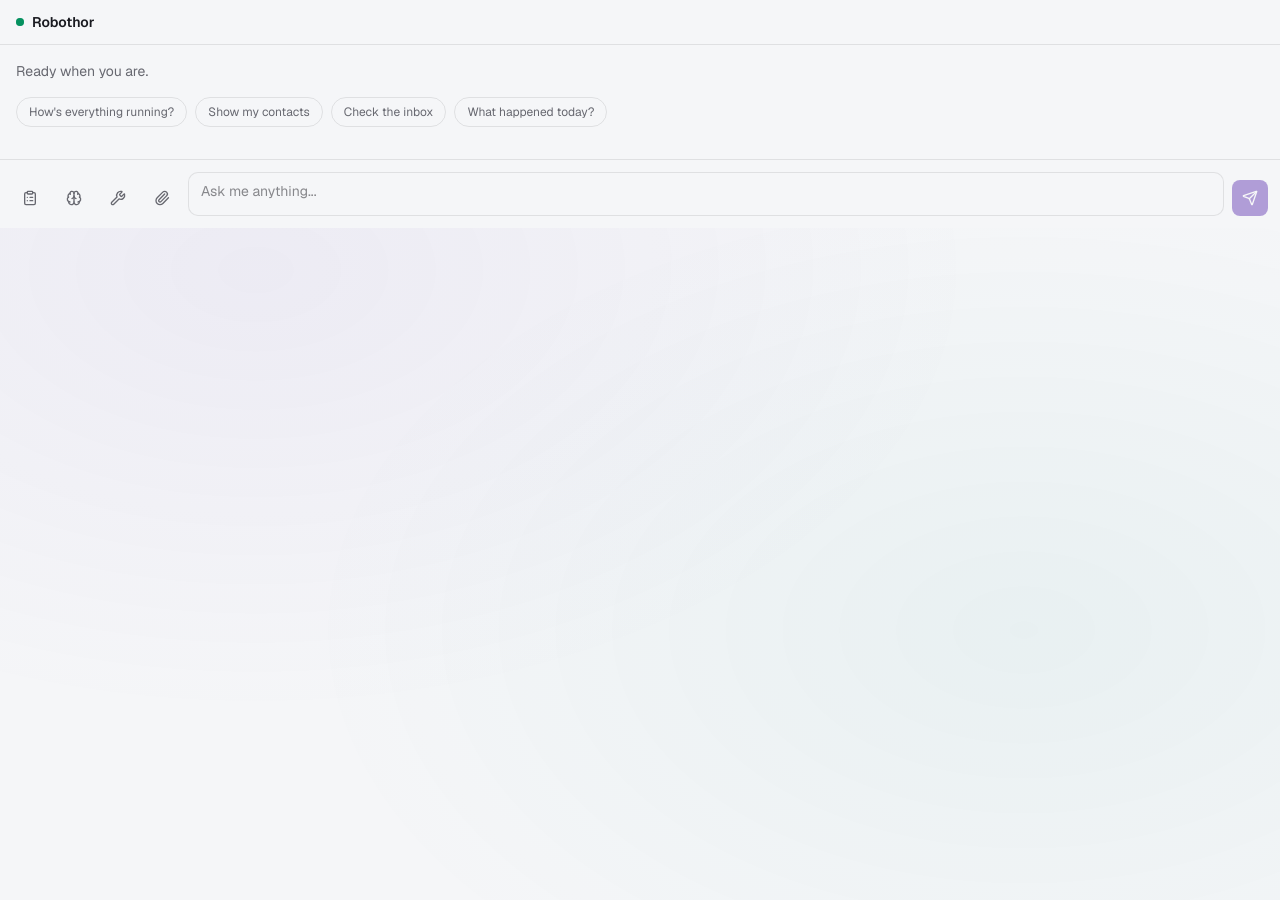
Test: ChatPanel — an agent's question, on every stream › renders the card from the plan/approve (full-tools execution) stream
Click the button with test id "plan-toggle" at {"x": 30, "y": 198}, box [12,180,48,216]
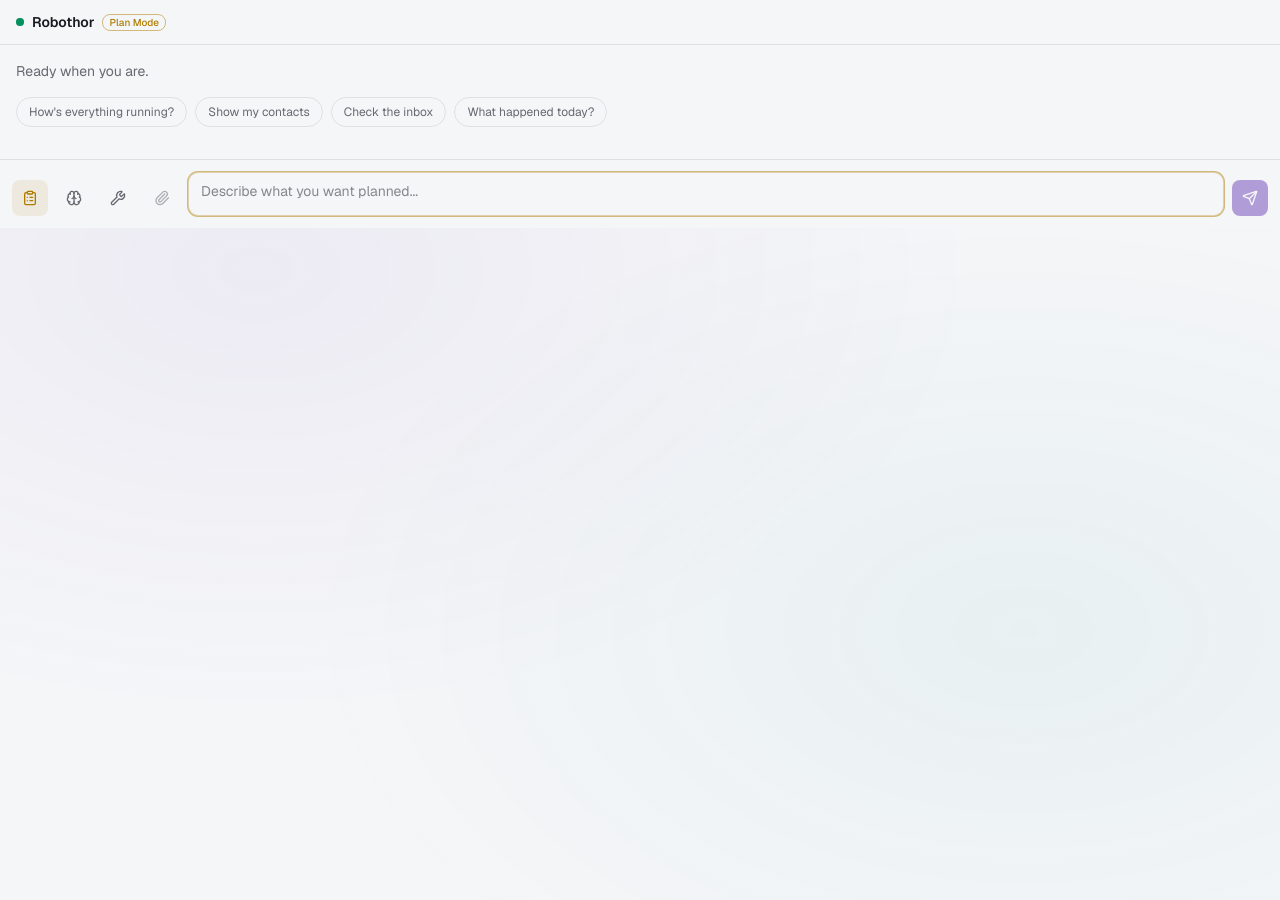
Type "sort out the vendor" into the text box with test id "chat-input" at {"x": 706, "y": 194}, box [188,172,1224,216]
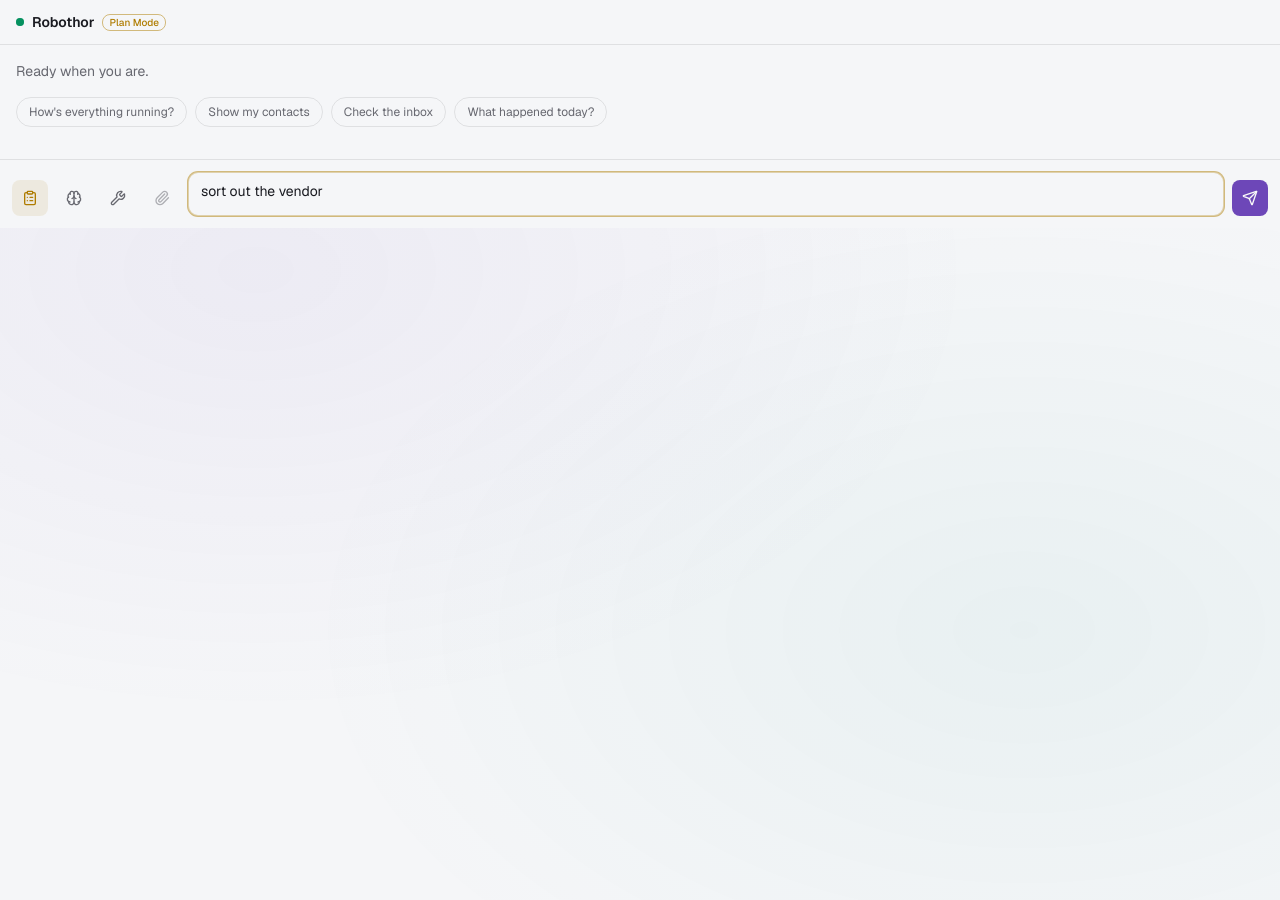
Click the button with test id "send-button" at {"x": 1250, "y": 198}, box [1232,180,1268,216]
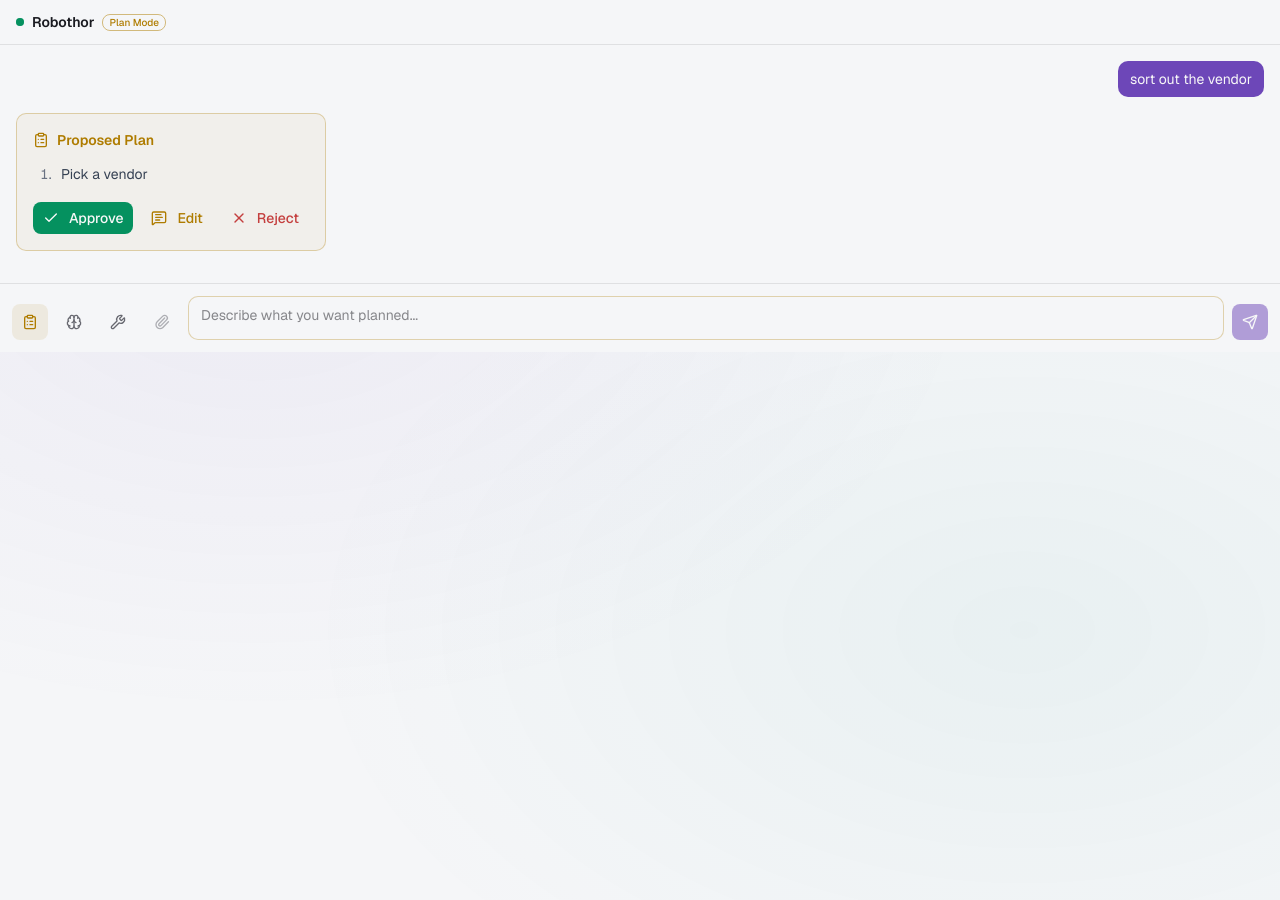
Result: the element with test id "plan-card" is shown at [16,113,326,251]
Click the button with test id "plan-approve" at {"x": 83, "y": 218}, box [33,202,134,234]
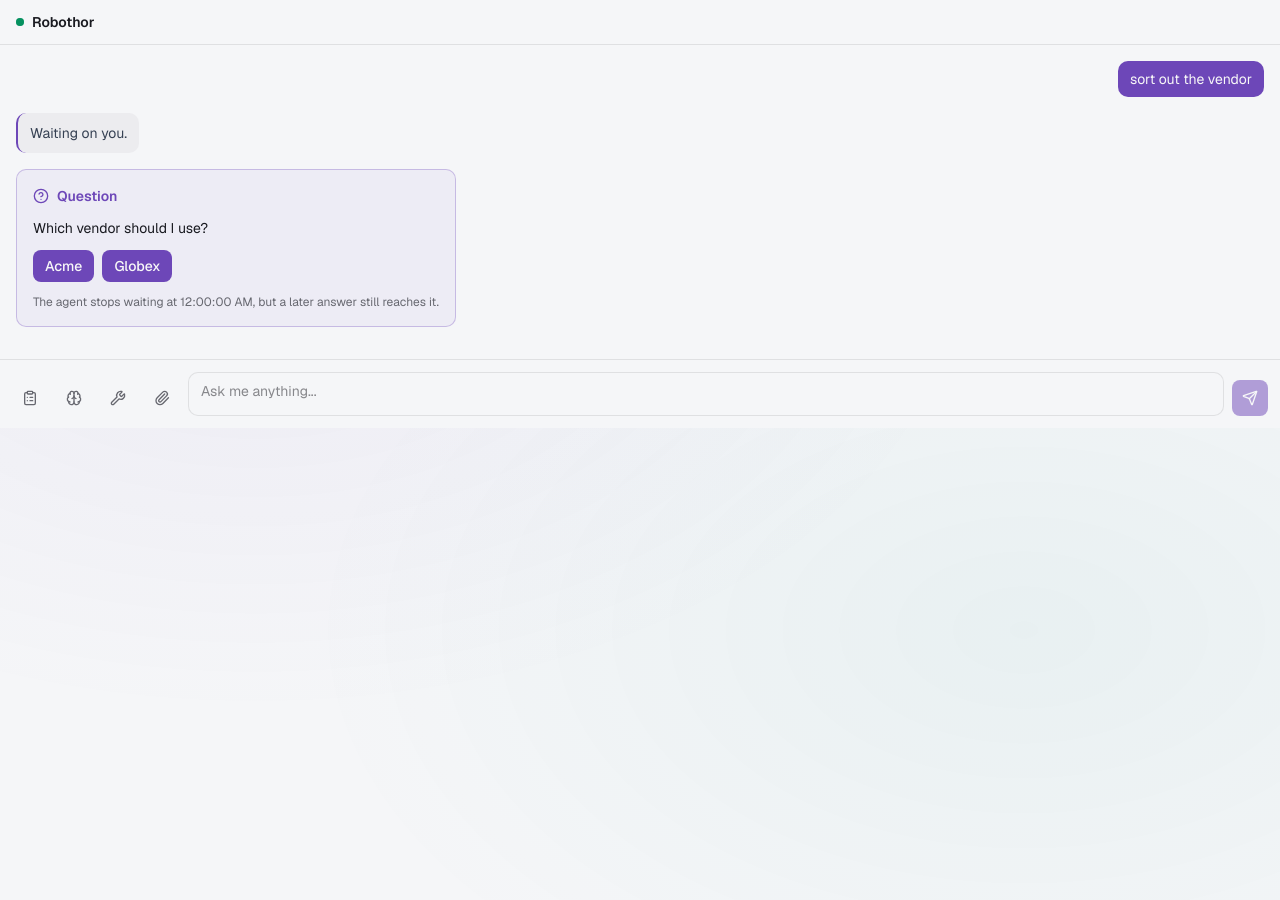
Result: the element with test id "ask-card" is shown at [16,169,456,327]
Result: the element with test id "ask-card" shows "Which vendor should I use?" at [33,219,208,237]
